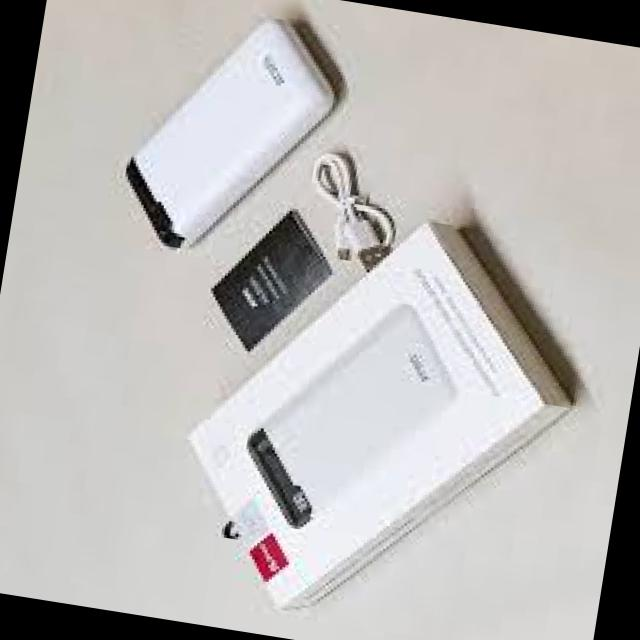power_bank: (107, 0, 358, 273), (234, 280, 472, 555)
